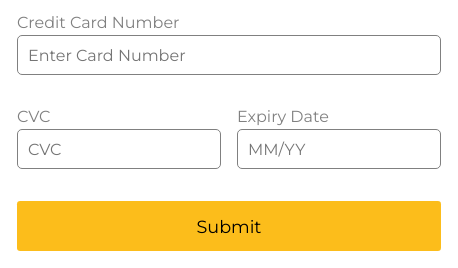
Scenario: Form › should not allow non digit characters in credit card textbox
In the field labelled "Credit Card Number": (229, 55) [17,35,441,75], type "1234qwe@#!"
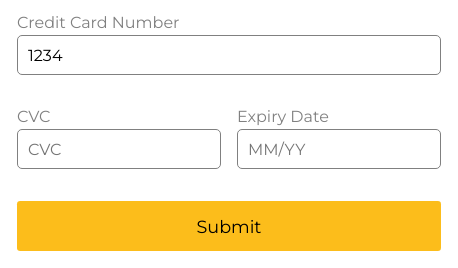
Now the field labelled "Credit Card Number" holds "1234", box [17,35,441,75]
